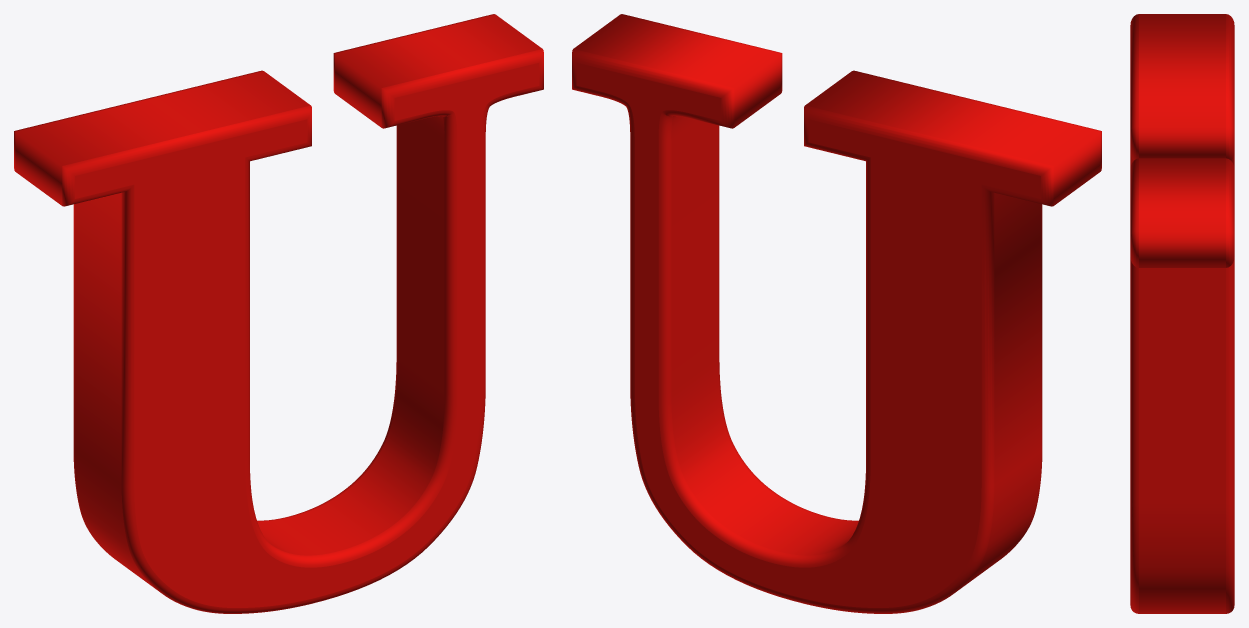
File: capital_u.fbx
The picture shows the model from 3 angles, left to right: view 1: azimuth 30°, elevation 25°; view 2: azimuth 150°, elevation 25°; view 3: azimuth 270°, elevation 25°; orthographic projection. The views are drawn at different scales.
Visible parts, largest first — view 1: Text; view 2: Text; view 3: Text.
Boxes of the visible parts, x1=… form: Text: x1=14, y1=14, x2=543, y2=613; Text: x1=572, y1=14, x2=1101, y2=613; Text: x1=1130, y1=14, x2=1234, y2=613.
Size of the model in its own units: 226 by 224 by 45.87.
